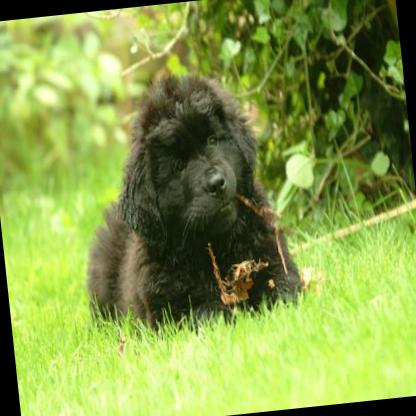Newfoundland: (64, 61, 303, 343)
